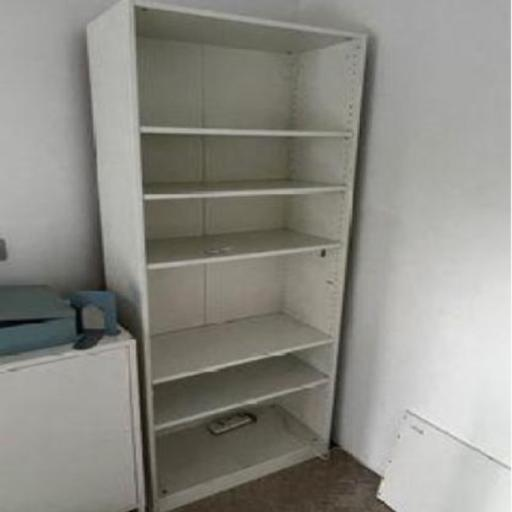road: (88, 1, 376, 511)
